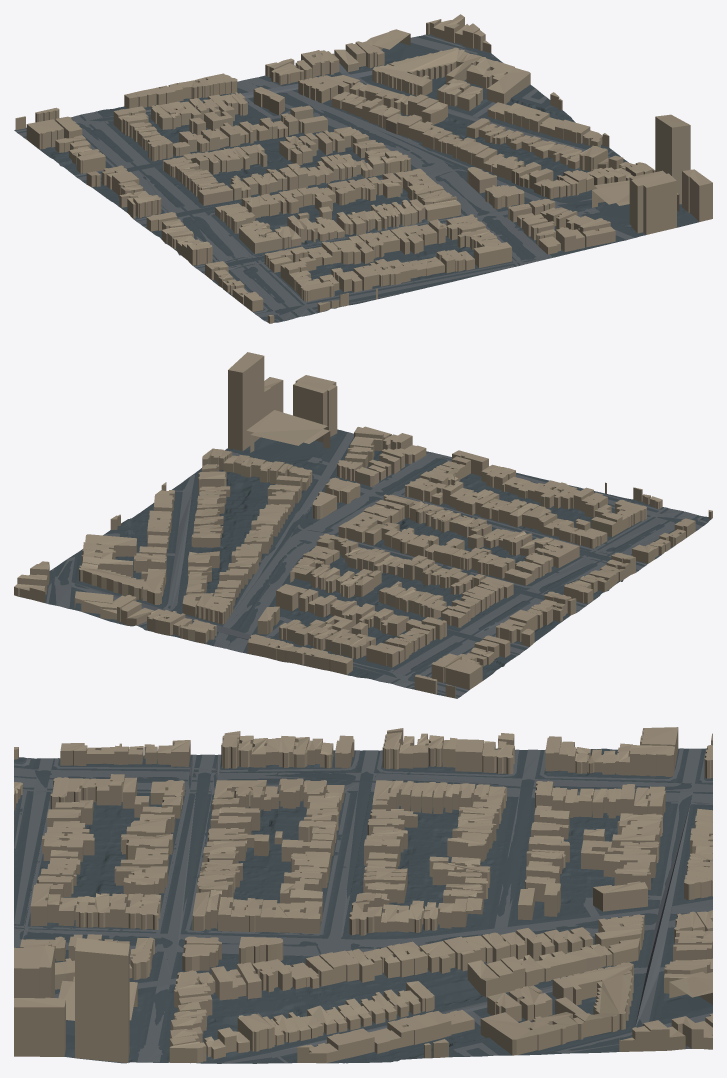
Rendered from epsg26910-1434-10879.lod0.glb.
3 views of the same model, one above another, from view 1: azimuth 30°, elevation 25°; view 2: azimuth 150°, elevation 25°; view 3: azimuth 270°, elevation 25° (orthographic). The views are drawn at different scales.
Parts seen in each view (by area): view 1: epsg26910-1434-10879-lod0; view 2: epsg26910-1434-10879-lod0; view 3: epsg26910-1434-10879-lod0.
Part boxes in pixels (x1,y1,x2,y2): epsg26910-1434-10879-lod0: [14, 14, 712, 323]; epsg26910-1434-10879-lod0: [14, 352, 712, 698]; epsg26910-1434-10879-lod0: [14, 727, 712, 1063].
Bounding box in the file's own units: 384 × 69.43 × 384.
